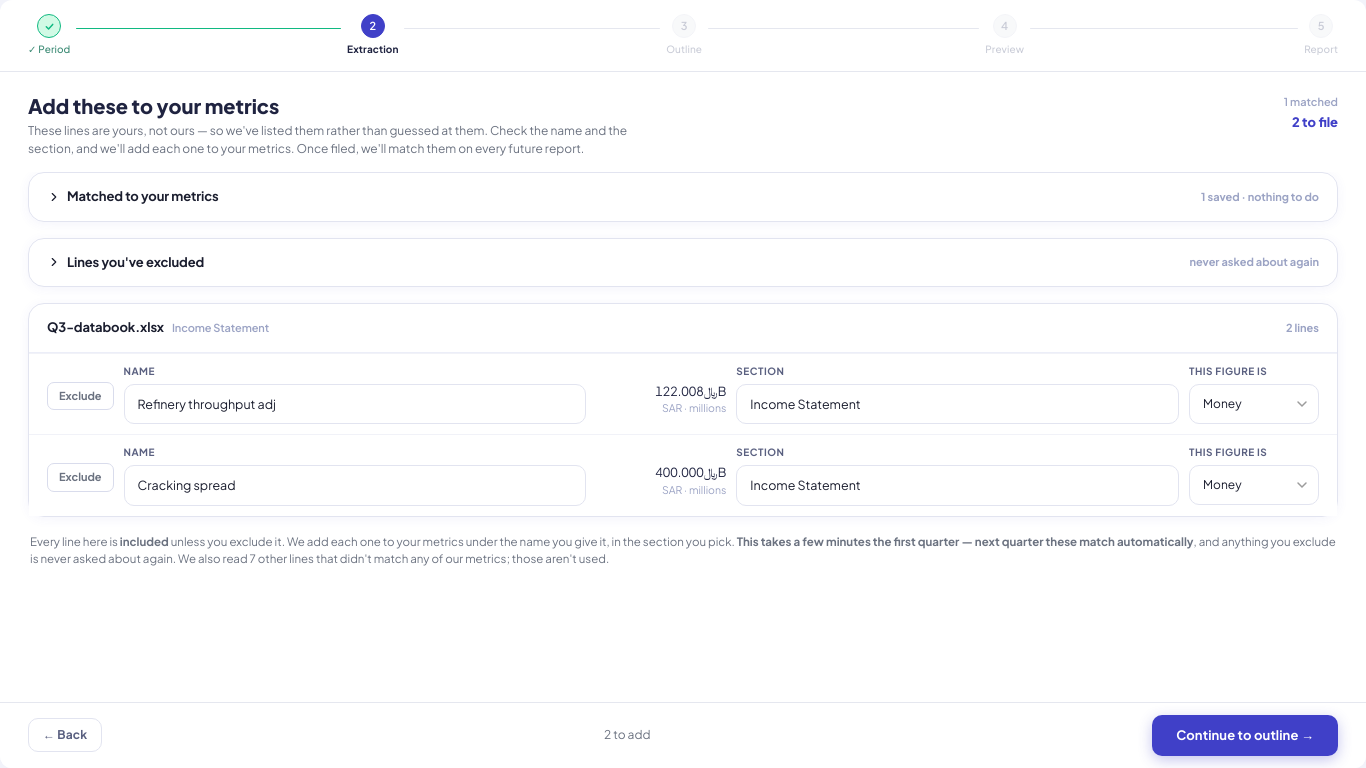
Test case: quarterly extraction review › shows the already-matched figures as a record, collapsed by default
expect the heading "Add these to your metrics" is shown: met, box x1=28 y1=93 x2=279 y2=118
expect the text "1 saved · nothing to do" is shown: met, box x1=1201 y1=188 x2=1319 y2=205
Click the button "Matched to your metrics 1 saved · nothing to do".
click(143, 196)  # box x1=29 y1=173 x2=1337 y2=220
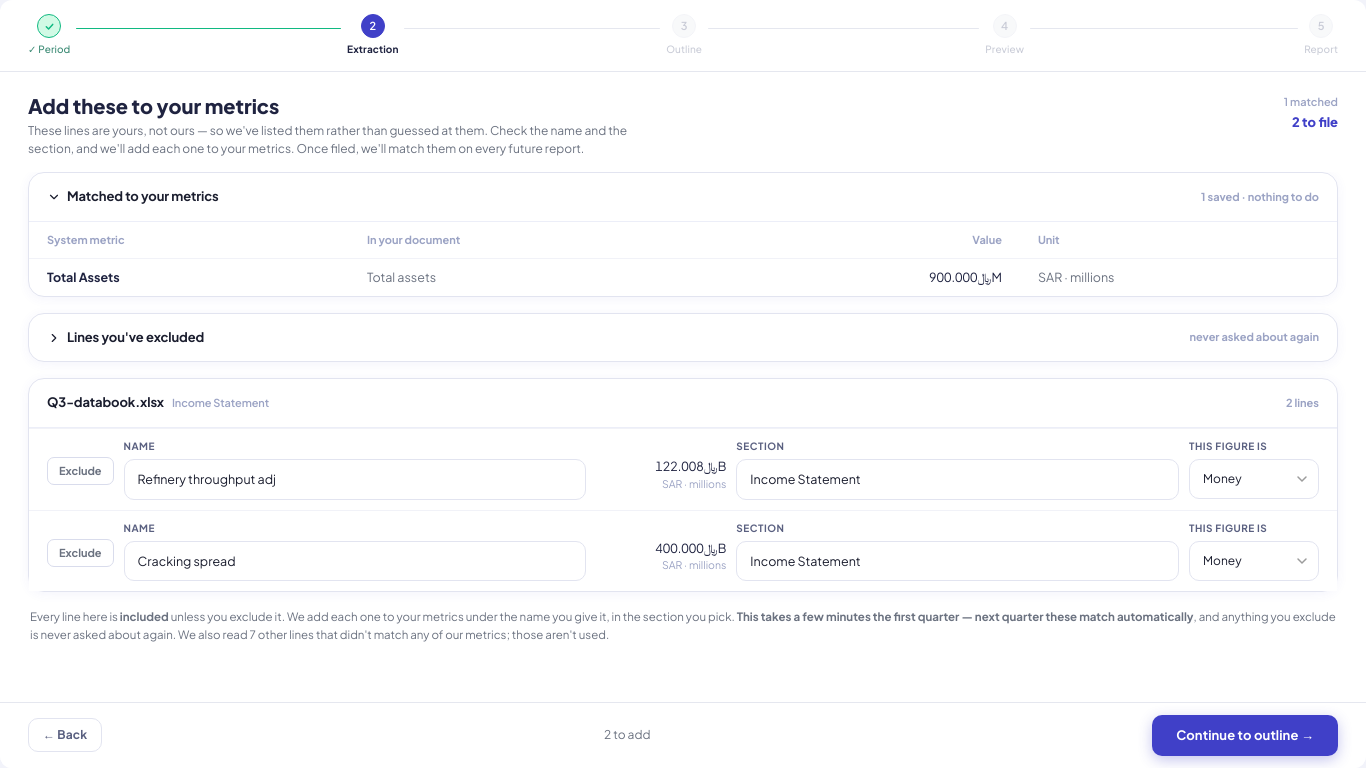
expect the text "Total assets" is shown: met, box x1=349 y1=258 x2=713 y2=296
expect the text "Total Assets" is shown: met, box x1=29 y1=258 x2=349 y2=296
